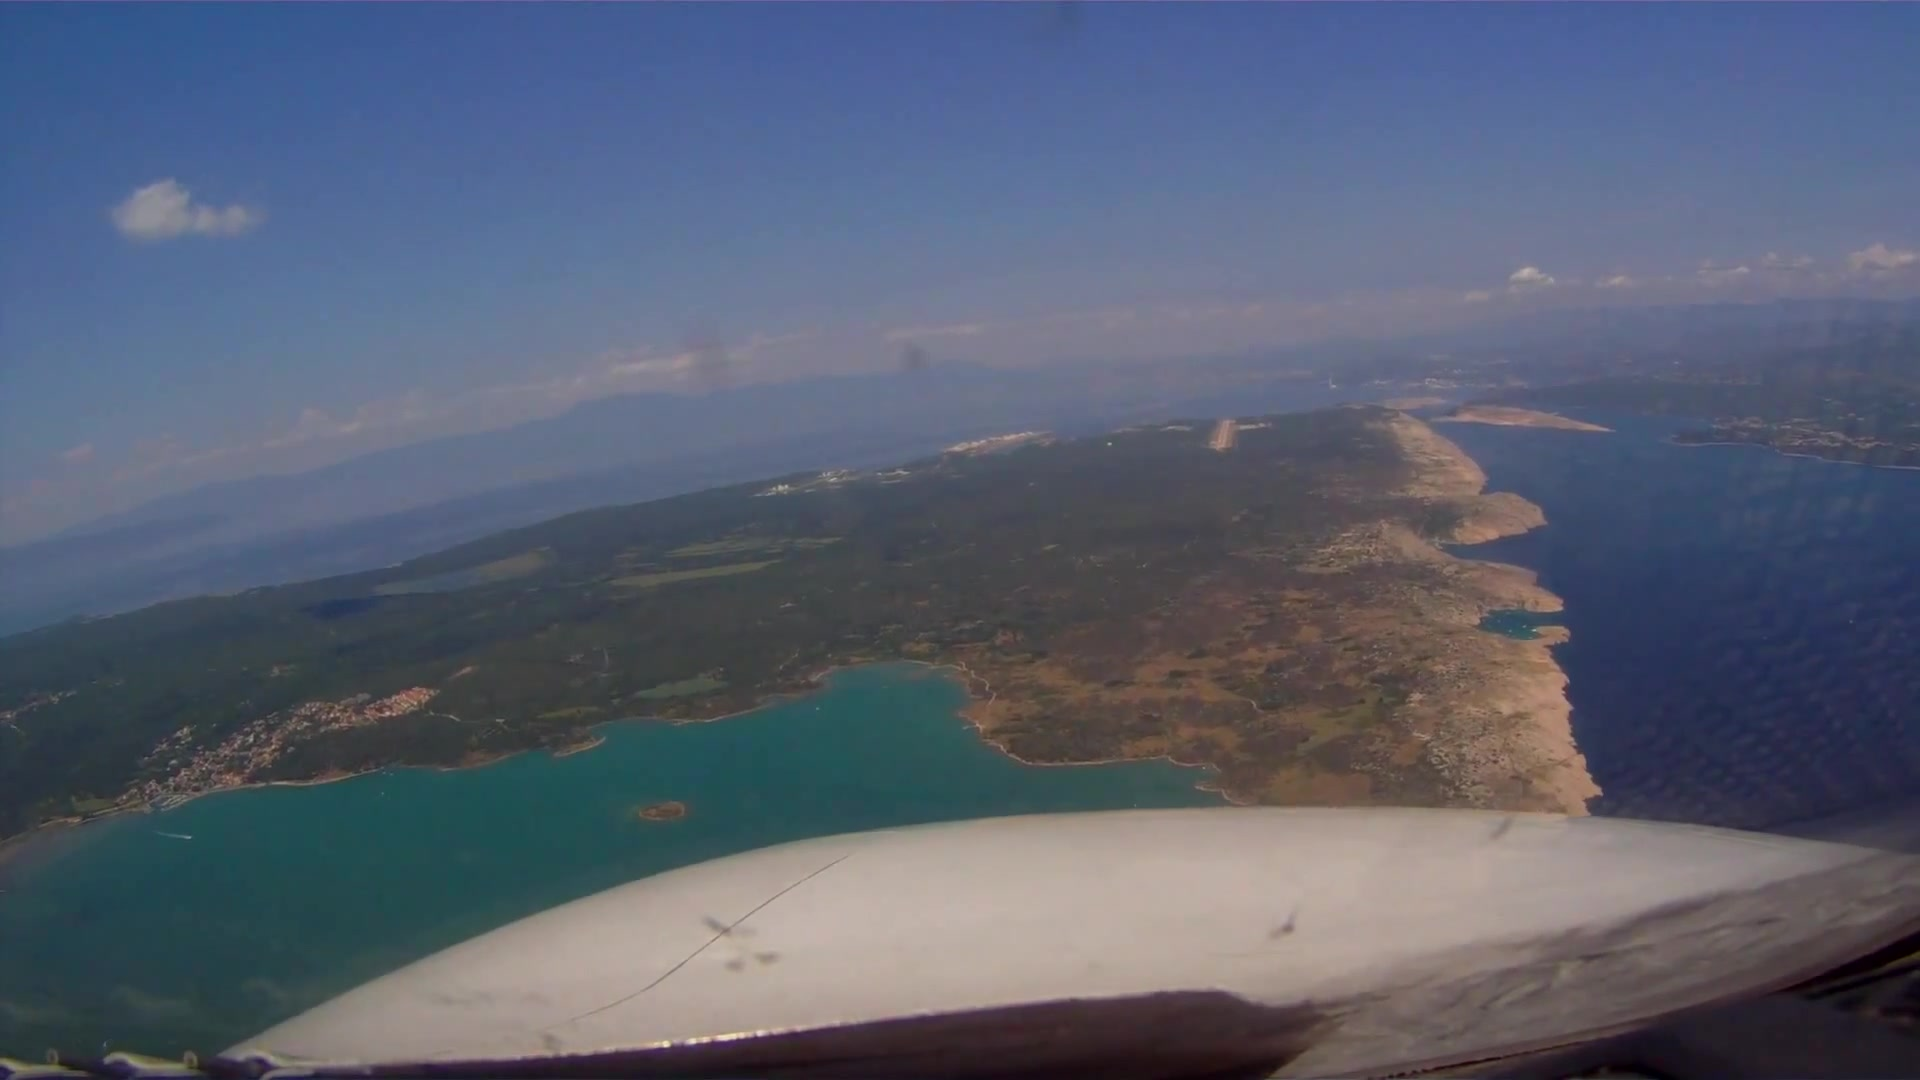runway: (1212, 417, 1232, 450)
